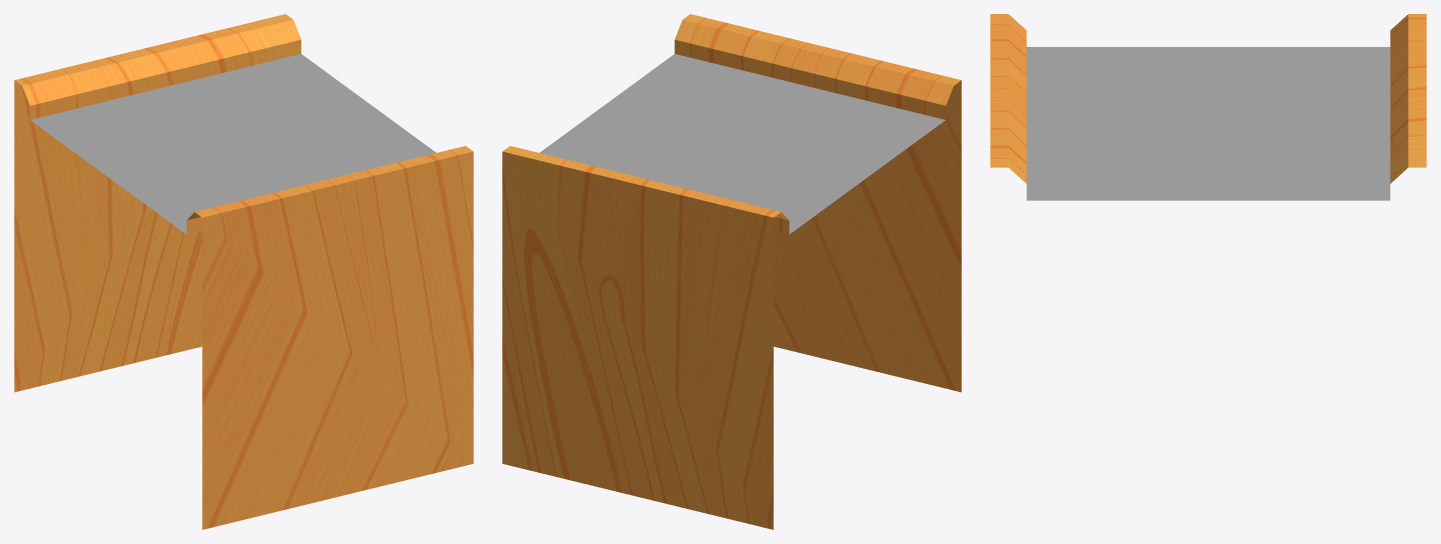
File: ConveyorBeltStraight.fbx
3 renders of one model, left to right at view 1: azimuth 30°, elevation 25°; view 2: azimuth 150°, elevation 25°; view 3: azimuth 270°, elevation 25°, orthographic. The views are drawn at different scales.
Visible parts, largest first — view 1: straight; view 2: straight; view 3: straight.
Part boxes in pixels (x1,y1,x2,y2): straight: (14, 14, 473, 529); straight: (502, 14, 961, 529); straight: (990, 14, 1426, 200).
Size of the model in its own units: 1 by 1.1 by 1.2.
